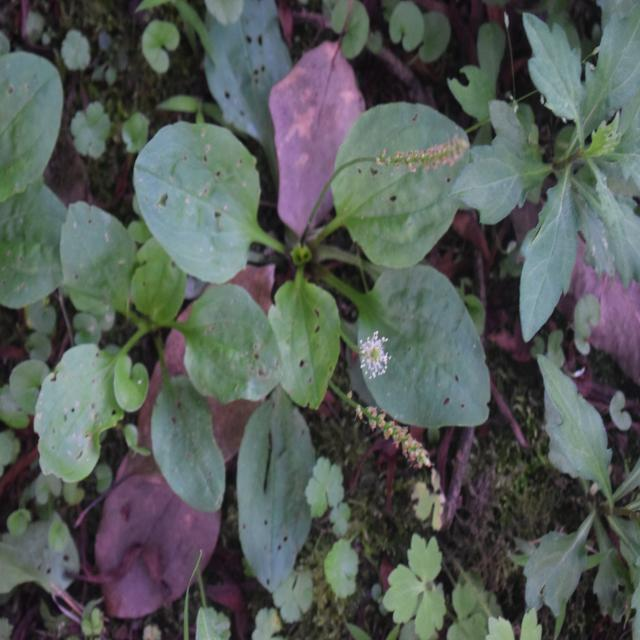plantain: (126, 111, 501, 448)
